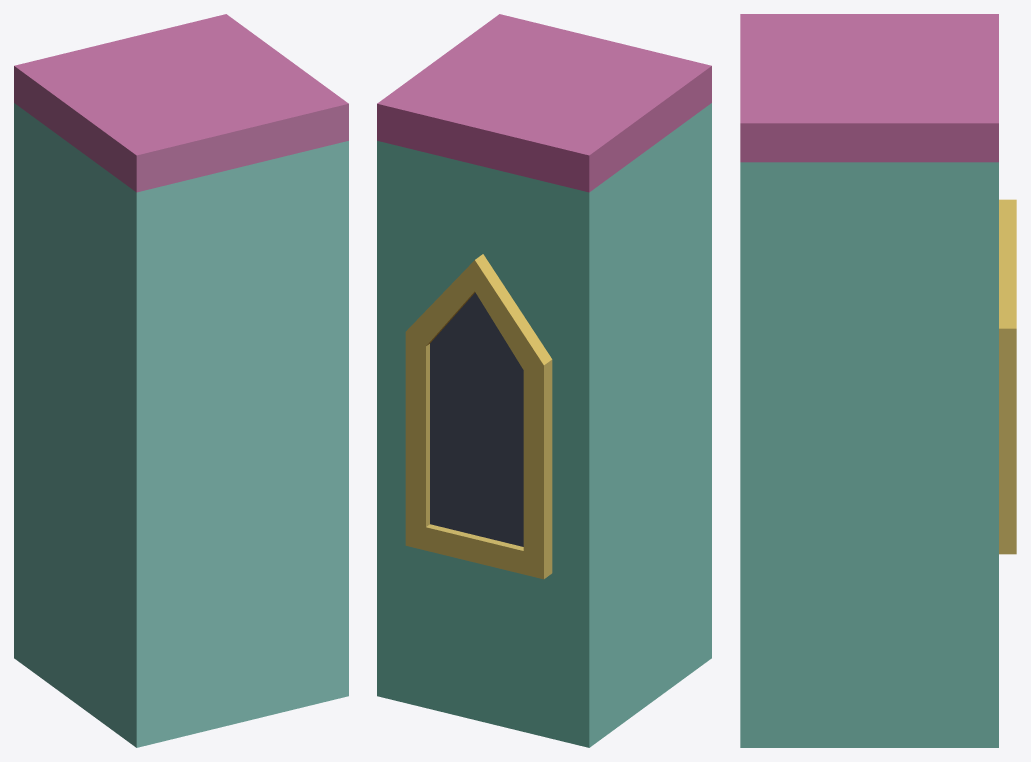
The model's file is squidgame_props_platform4_blue.fbx.
3 views of the same model, side by side, from view 1: azimuth 30°, elevation 25°; view 2: azimuth 150°, elevation 25°; view 3: azimuth 270°, elevation 25° (orthographic). The views are drawn at different scales.
Parts seen in each view (by area): view 1: squidgame_props_platform4_blue; view 2: squidgame_props_platform4_blue; view 3: squidgame_props_platform4_blue.
Boxes of the visible parts, box(x1,y1,x2,y2) form: squidgame_props_platform4_blue: box(14, 14, 348, 747); squidgame_props_platform4_blue: box(377, 14, 711, 747); squidgame_props_platform4_blue: box(740, 14, 1016, 747).
Bounding box in the file's own units: 1.5 × 4 × 1.6.
